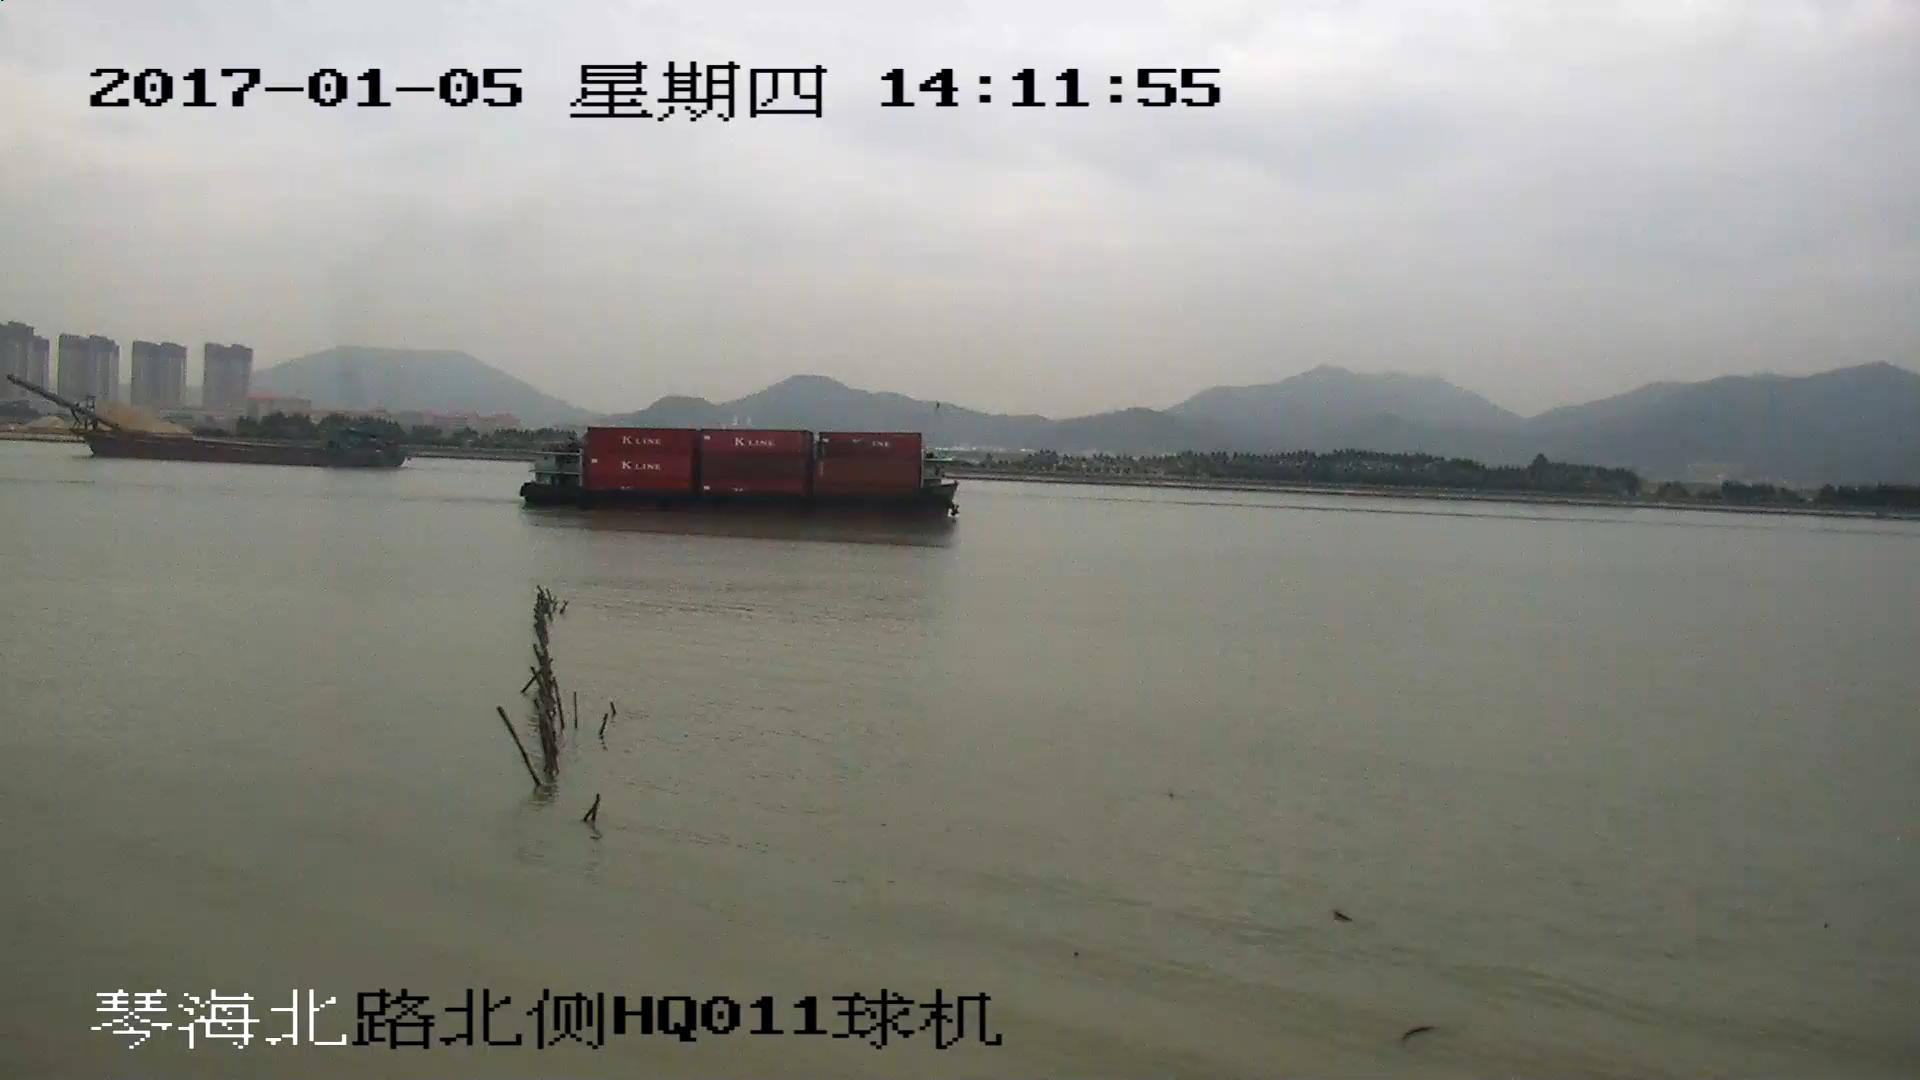bulk cargo carrier: (9, 374, 408, 469)
container ship: (517, 427, 959, 529)
